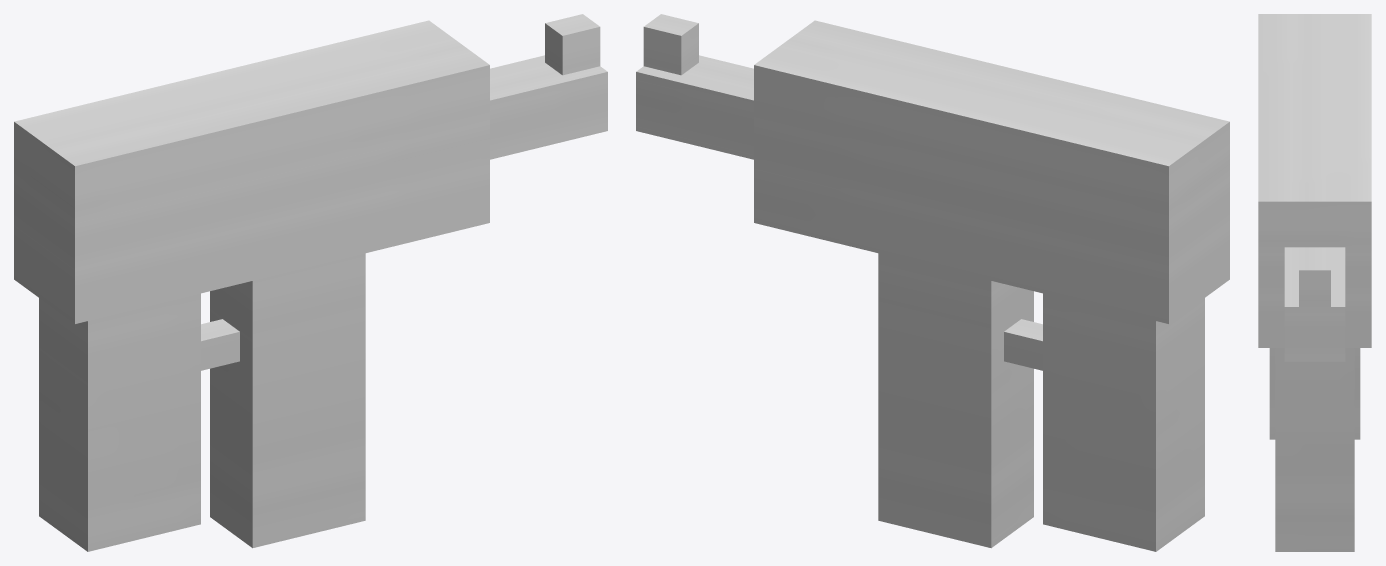
Rendered from machine_pistol.obj.
3 renders of one model, left to right at view 1: azimuth 30°, elevation 25°; view 2: azimuth 150°, elevation 25°; view 3: azimuth 270°, elevation 25°, orthographic. The views are drawn at different scales.
Visible parts, largest first — view 1: machine_pistol; view 2: machine_pistol; view 3: machine_pistol.
Boxes of the visible parts, left/top/right/bottom form: machine_pistol: left=14, top=14, right=607, bottom=551; machine_pistol: left=636, top=14, right=1229, bottom=551; machine_pistol: left=1258, top=14, right=1371, bottom=551.
Bounding box in the file's own units: 0.29 × 0.22 × 0.056.
